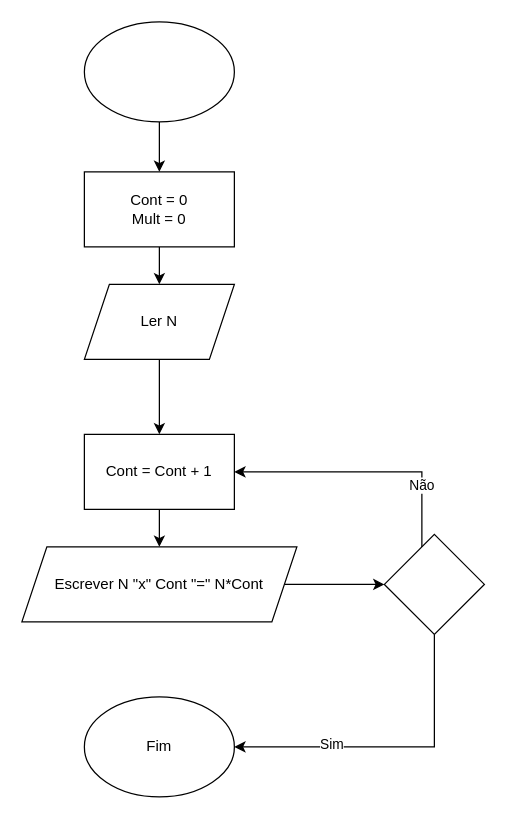
This 506x819 diagram has some shape labels left out. The centre of each missing label's shape, as x and y in pixels:
"Cont == 10" goes at (x=433, y=583).
"Ínicio" goes at (x=158, y=71).
